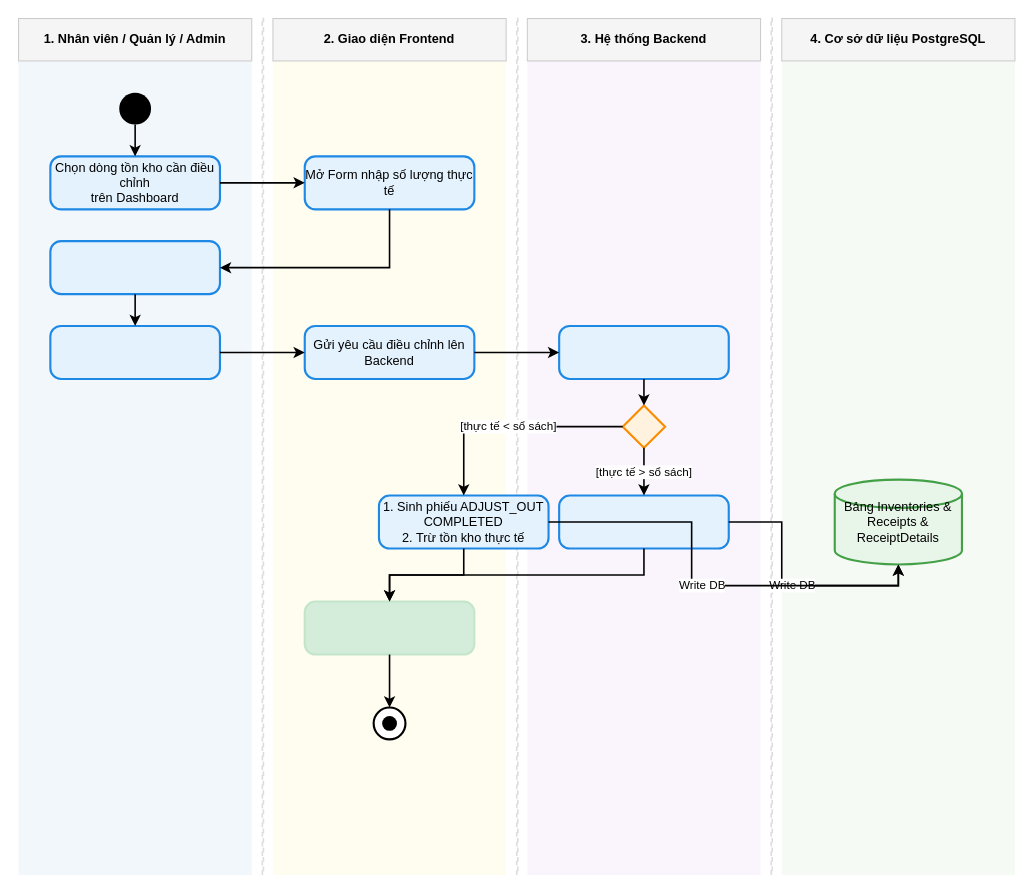
The diagram is 1034 pixels wide and 895 high, and some of its shapes have lost their labels. Here are the shapes that lost their labels. From the top down, the centre of each, then its label:
point 134,267: Nhập số lượng thực tế đếm được
point 134,351: Nhấn Xác Nhận
point 643,351: So sánh thực tế & sổ sách (actual vs expected)
point 643,521: 1. Sinh phiếu ADJUST_IN COMPLETED 2. Cộng tồn kho thực tế
point 389,627: Toast thông báo cân bằng kho thành công & Refresh Dashboard
